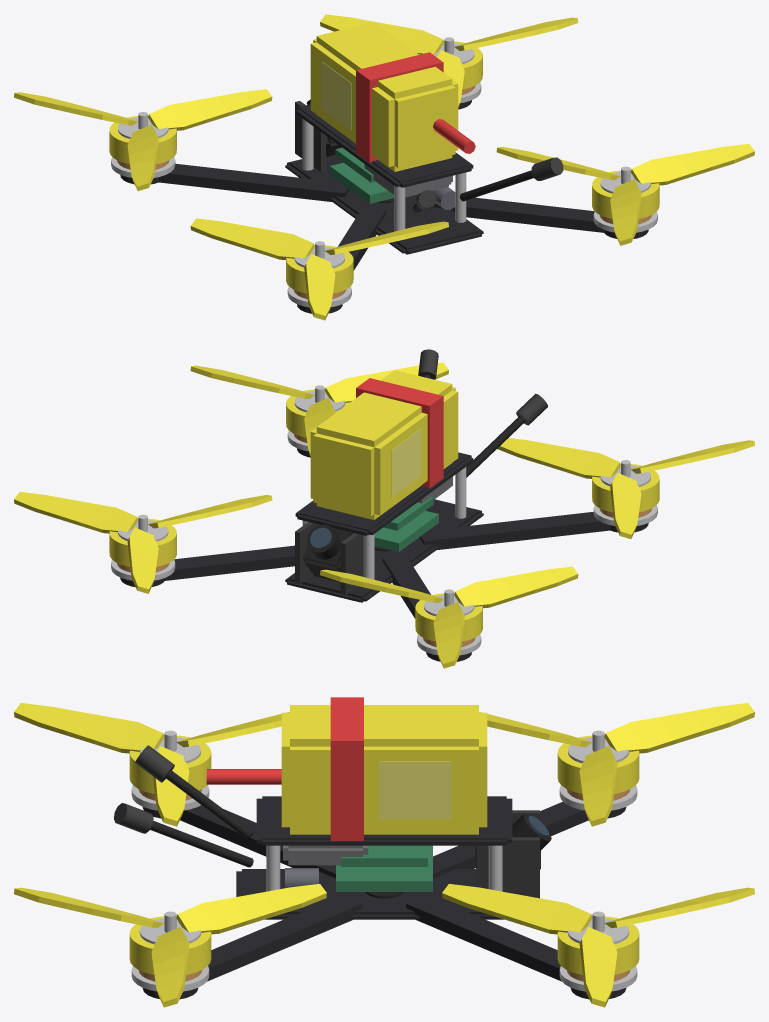
Rendered from racer5pro.glb.
The picture shows the model from 3 angles, top to bottom: view 1: azimuth 30°, elevation 25°; view 2: azimuth 150°, elevation 25°; view 3: azimuth 270°, elevation 25°; orthographic projection. The views are drawn at different scales.
Visible parts, largest first — view 1: body, prop_FL, prop_RL, prop_RR, prop_FR, cam_mount; view 2: body, prop_FL, prop_FR, prop_RL, prop_RR, cam_mount, fpv_cam; view 3: body, prop_FR, prop_RR, prop_FL, prop_RL, cam_mount, fpv_cam.
Part boxes in pixels (x1,y1,x2,y2): body: (109, 22, 659, 313); prop_FL: (14, 89, 394, 203); prop_RL: (190, 218, 448, 320); prop_RR: (496, 143, 754, 245); prop_FR: (320, 14, 578, 107); cam_mount: (295, 101, 325, 172); body: (109, 349, 659, 661); prop_FL: (320, 546, 578, 668); prop_FR: (14, 492, 272, 593); prop_RL: (497, 438, 754, 538); prop_RR: (190, 362, 448, 455); cam_mount: (295, 522, 363, 595); fpv_cam: (302, 524, 352, 582); body: (114, 697, 639, 999); prop_FR: (442, 884, 754, 1007); prop_RR: (14, 884, 326, 1007); prop_FL: (366, 703, 754, 898); prop_RL: (14, 703, 289, 826); cam_mount: (476, 810, 539, 898); fpv_cam: (475, 813, 551, 869).
Bounding box in the file's own units: 0.2515 × 0.0748 × 0.2666.
